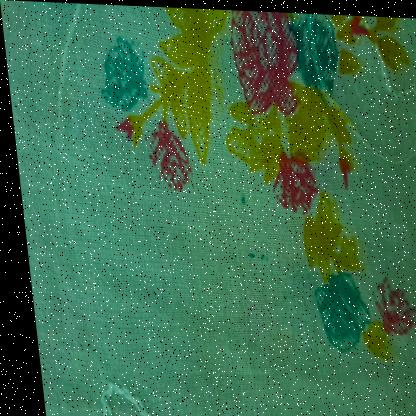spot: (240, 246, 255, 269), (233, 191, 247, 210), (253, 252, 264, 264)
